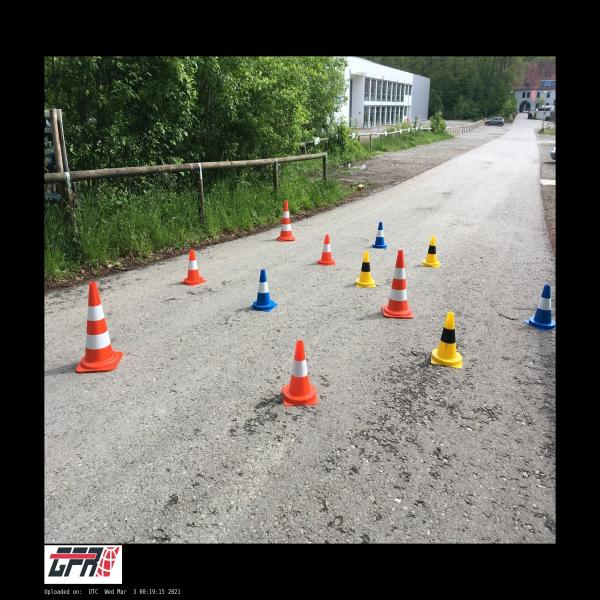blue_cone: (524, 284, 555, 330), (250, 269, 278, 312), (371, 222, 387, 248)
large_orange_cone: (76, 282, 122, 372), (381, 250, 412, 318), (278, 201, 295, 241)
orange_cone: (282, 341, 318, 406), (181, 249, 206, 286), (317, 235, 336, 266)
yellow_cone: (431, 312, 462, 368), (356, 252, 376, 288), (421, 236, 441, 268)
